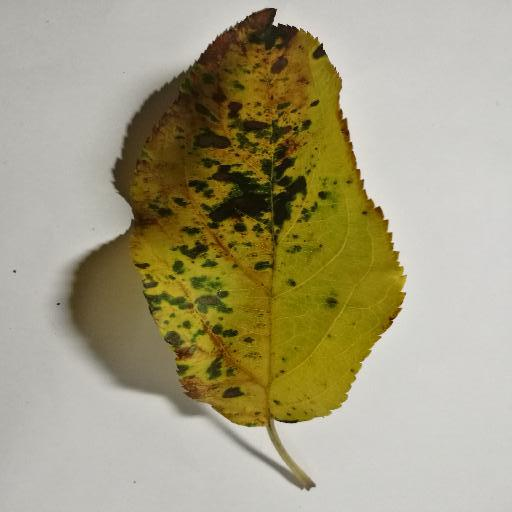Brown_Spot: (119, 19, 308, 432)
